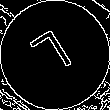L_SE: (28, 25, 82, 85)
